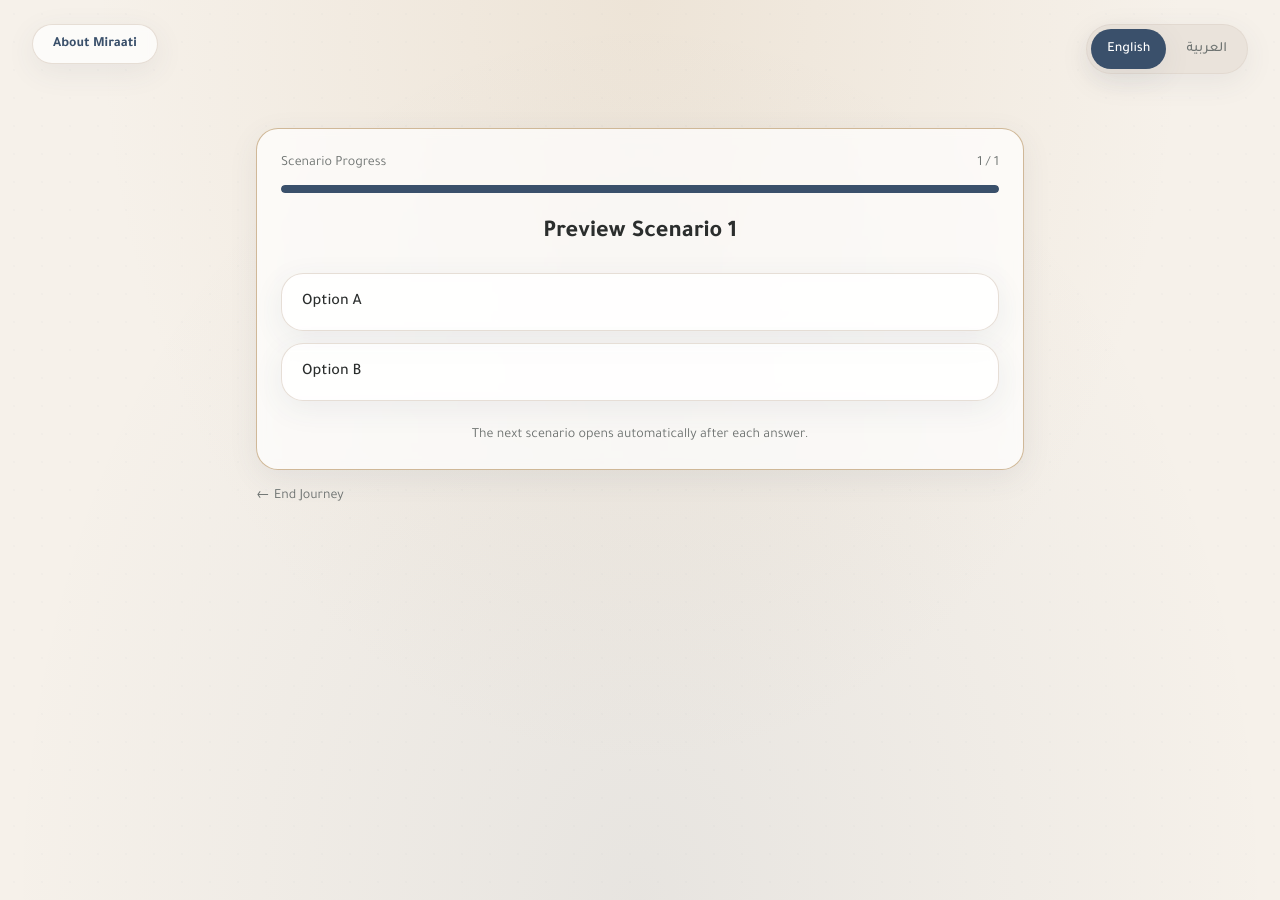
Test case: Journey smoke test › does not restart preview run when switching language
Check: the heading "Preview Scenario 1" is shown, box [543, 221, 737, 245]
Click the button "العربية".
click(1207, 49)  # box [1170, 29, 1243, 69]
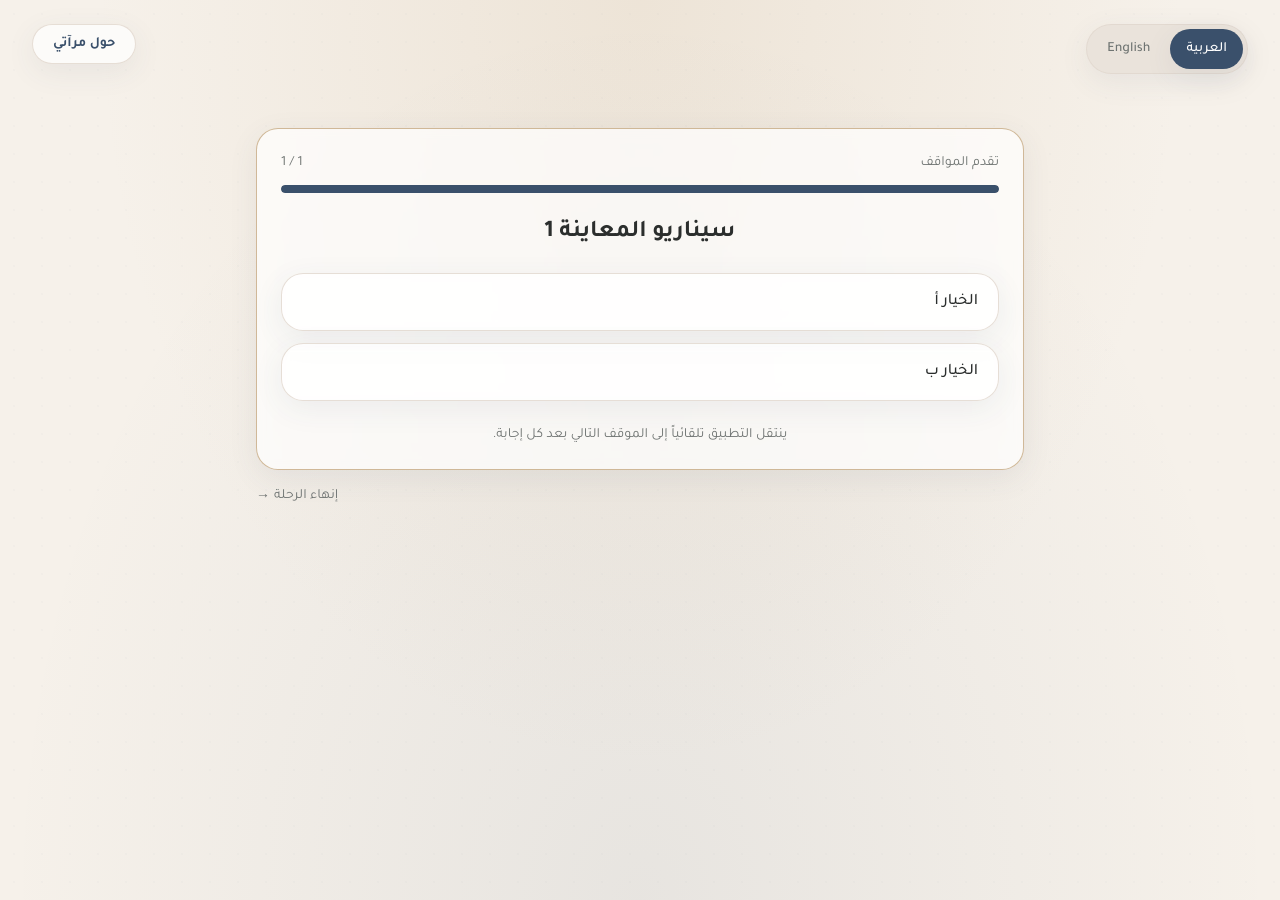
Check: the heading "سيناريو المعاينة 1" is shown, box [545, 221, 735, 245]
